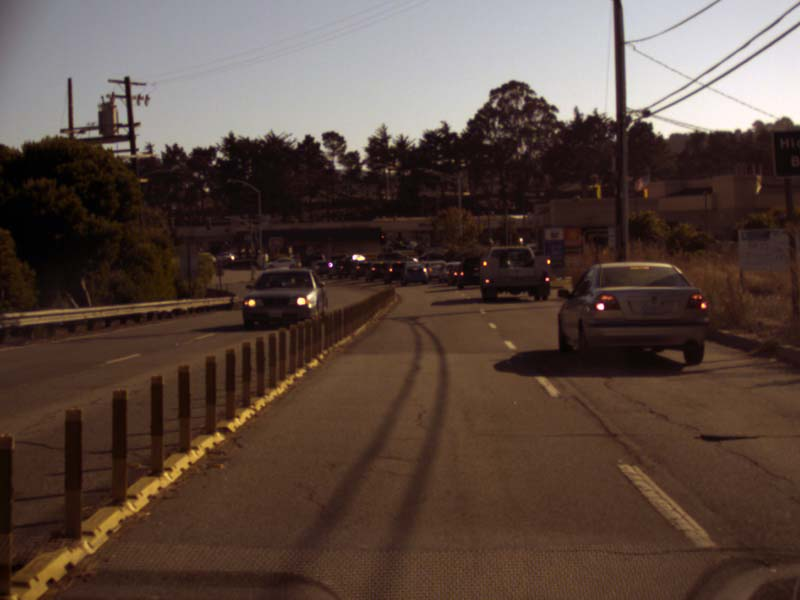Red: (379, 232, 384, 245)
